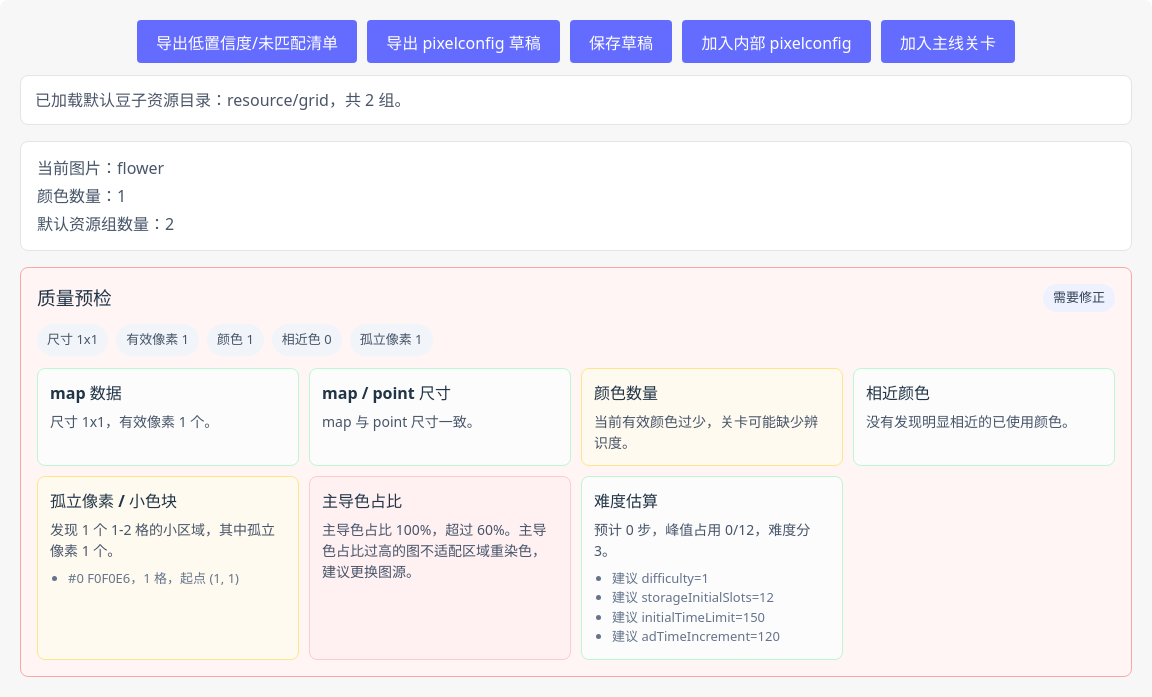
LevelProductionPreviewPanel › publishes the current draft into main levelconfig with suggested values
What coordinates should you click on to do the following:
click the button "加入主线关卡"
I would click on:
 (948, 42)
Its box is left=881, top=20, right=1015, bottom=63.
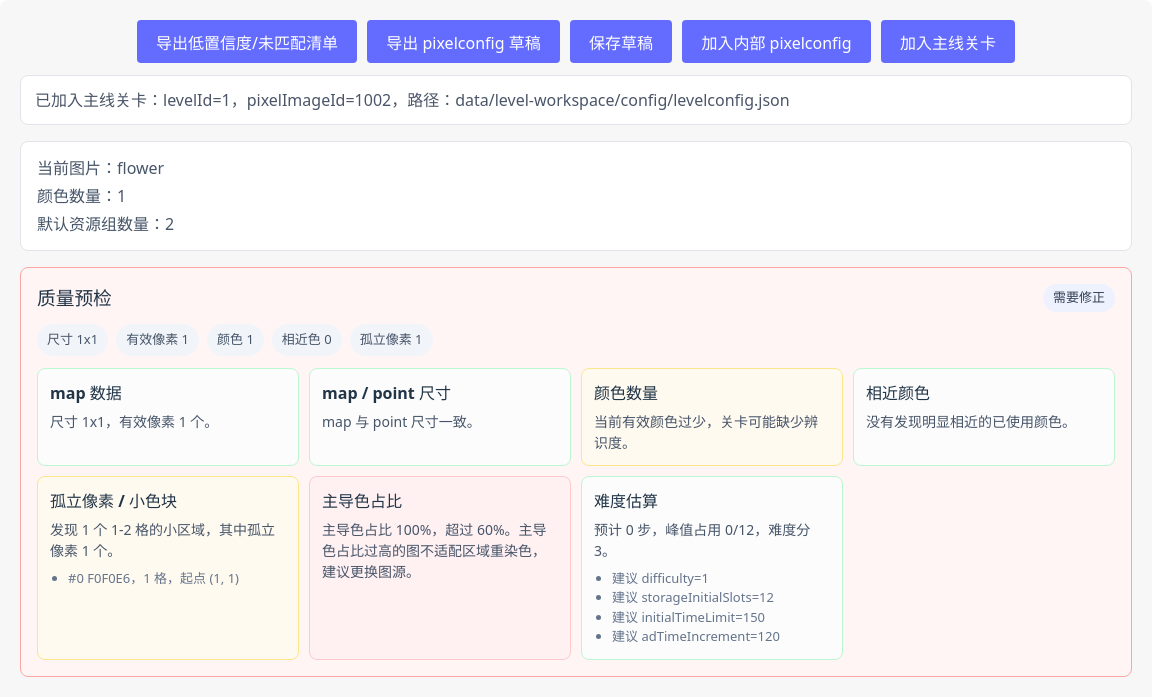
expect the text "data/level-workspace/config/levelconfig.json" is shown: met, box left=35, top=89, right=790, bottom=111
